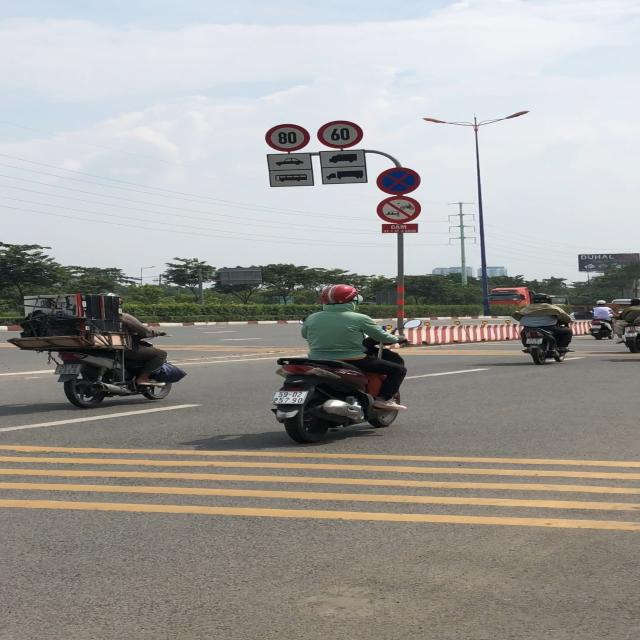Bien bao cam dung xe va do xe: (377, 166, 422, 195)
Bien bao toc do toi da cho phep: (316, 119, 368, 149), (266, 123, 312, 153)
